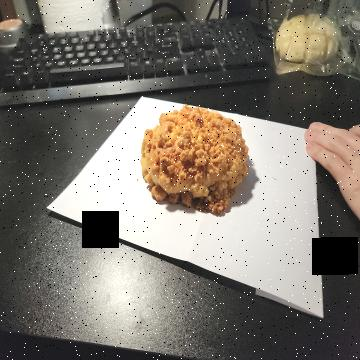soboru_bread: (141, 106, 249, 212)
